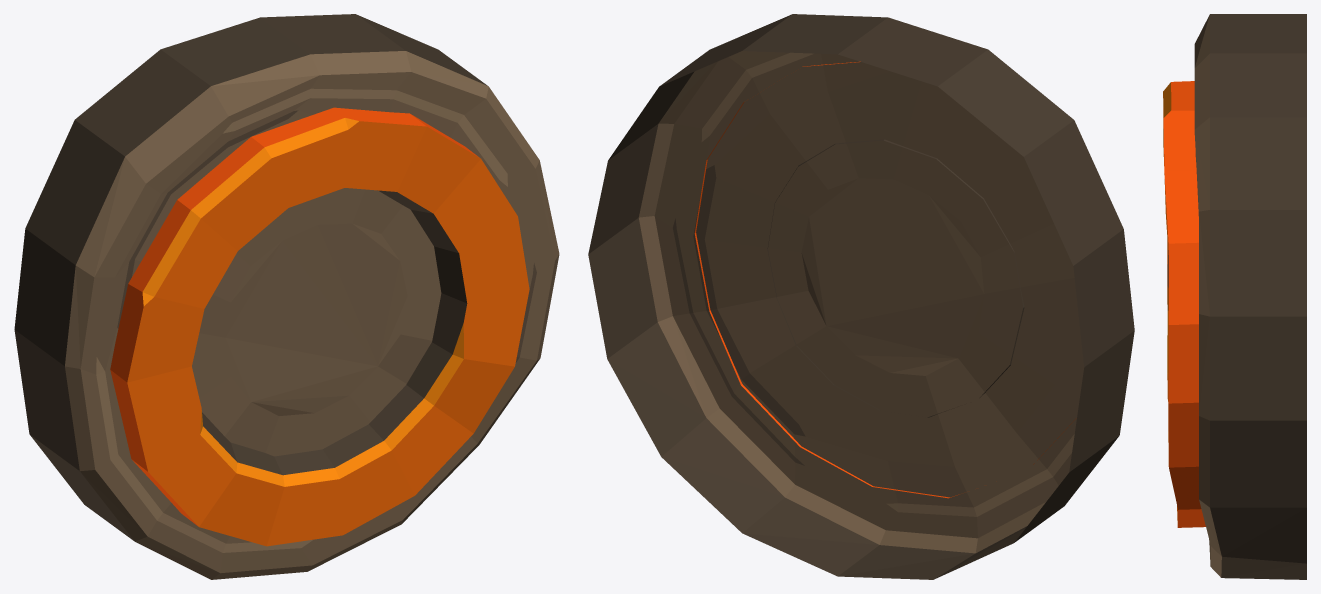
File: EA_RotatingBase_01a.glb
3 renders of one model, left to right at view 1: azimuth 30°, elevation 25°; view 2: azimuth 150°, elevation 25°; view 3: azimuth 270°, elevation 25°, orthographic. The views are drawn at different scales.
Parts seen in each view (by area): view 1: EA_RotatingBase_01a, EA_RotatingBase_btn; view 2: EA_RotatingBase_01a, EA_RotatingBase_btn; view 3: EA_RotatingBase_01a, EA_RotatingBase_btn.
Boxes of the visible parts, <box> form: EA_RotatingBase_01a: <box>14,14,559,579</box>; EA_RotatingBase_btn: <box>110,107,529,546</box>; EA_RotatingBase_01a: <box>588,14,1134,579</box>; EA_RotatingBase_btn: <box>694,61,1076,498</box>; EA_RotatingBase_01a: <box>1194,14,1306,579</box>; EA_RotatingBase_btn: <box>1163,81,1205,527</box>.
Size of the model in its own units: 1.11 by 1.13 by 0.292.
Materials: 1 (1 with a texture image).
